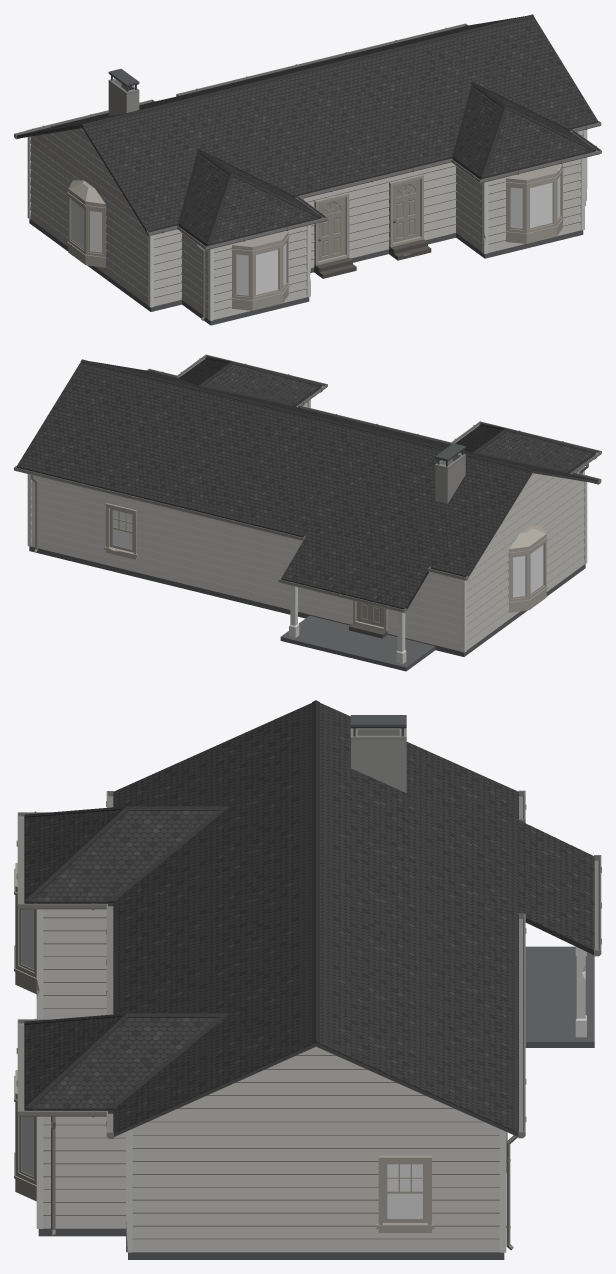
Rendered from SM_Bldg_Suburb_House_04.fbx.
The picture shows the model from 3 angles, top to bottom: view 1: azimuth 30°, elevation 25°; view 2: azimuth 150°, elevation 25°; view 3: azimuth 270°, elevation 25°; orthographic projection. The views are drawn at different scales.
Visible parts, largest first — view 1: SM_Bldg_Suburb_House_04, SM_Bldg_Suburb_House_04_Glass; view 2: SM_Bldg_Suburb_House_04, SM_Bldg_Suburb_House_04_Glass; view 3: SM_Bldg_Suburb_House_04, SM_Bldg_Suburb_House_04_Glass.
Part boxes in pixels (left/top/right/bottom): SM_Bldg_Suburb_House_04: left=14, top=14, right=601, bottom=325; SM_Bldg_Suburb_House_04_Glass: left=71, top=176, right=560, bottom=295; SM_Bldg_Suburb_House_04: left=14, top=354, right=601, bottom=671; SM_Bldg_Suburb_House_04_Glass: left=113, top=510, right=543, bottom=597; SM_Bldg_Suburb_House_04: left=14, top=700, right=601, bottom=1259; SM_Bldg_Suburb_House_04_Glass: left=21, top=909, right=422, bottom=1218.
Size of the model in its own units: 1835 by 624 by 1320.
